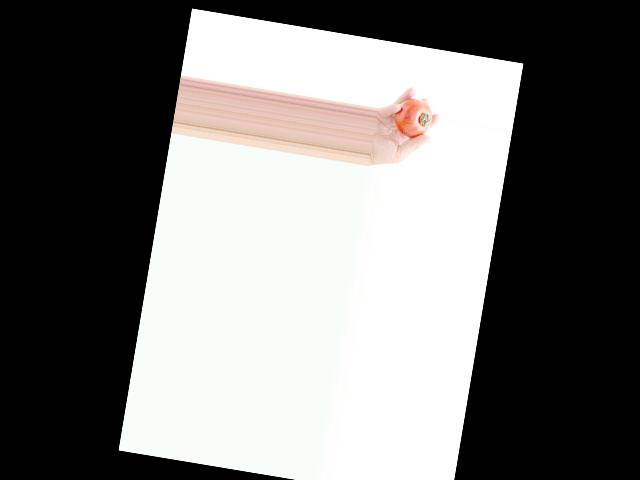tomato: (391, 95, 434, 140)
